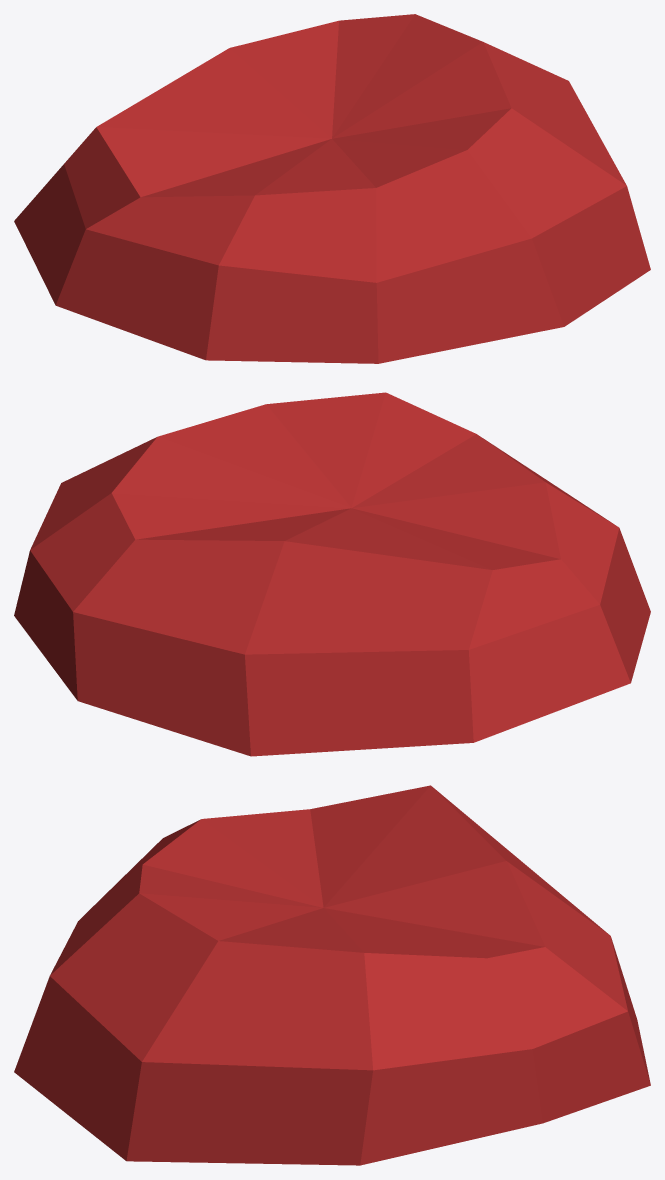
File: Beanbag_Red.fbx
The picture shows the model from 3 angles, top to bottom: view 1: azimuth 30°, elevation 25°; view 2: azimuth 150°, elevation 25°; view 3: azimuth 270°, elevation 25°; orthographic projection. The views are drawn at different scales.
Parts seen in each view (by area): view 1: Beanbag; view 2: Beanbag; view 3: Beanbag.
Part boxes in pixels (x1,y1,x2,y2): Beanbag: (14,14,650,363); Beanbag: (14,392,650,756); Beanbag: (14,785,650,1165).
Size of the model in its own units: 99.59 by 32.2 by 91.7.
